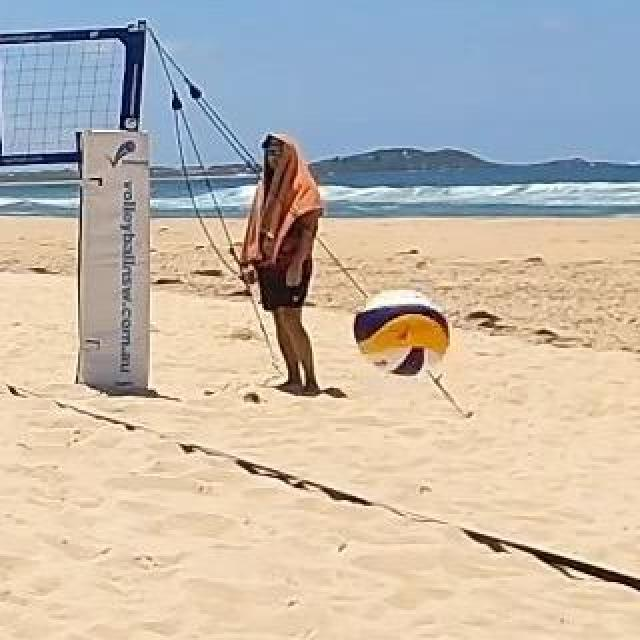volleyball: (354, 289, 450, 375)
